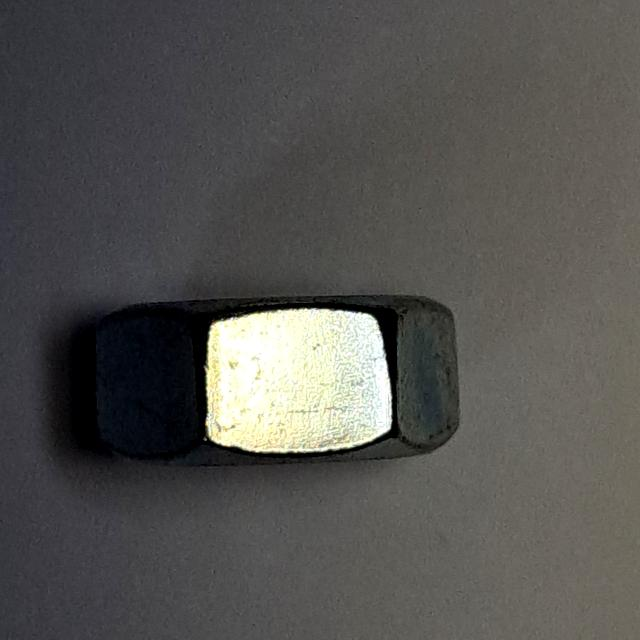Side_Excellent: (81, 280, 480, 486)
